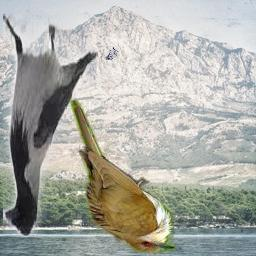Crow: (4, 15, 99, 238)
Cuckoo: (69, 99, 176, 254)
Woodpecker: (105, 46, 119, 60)
